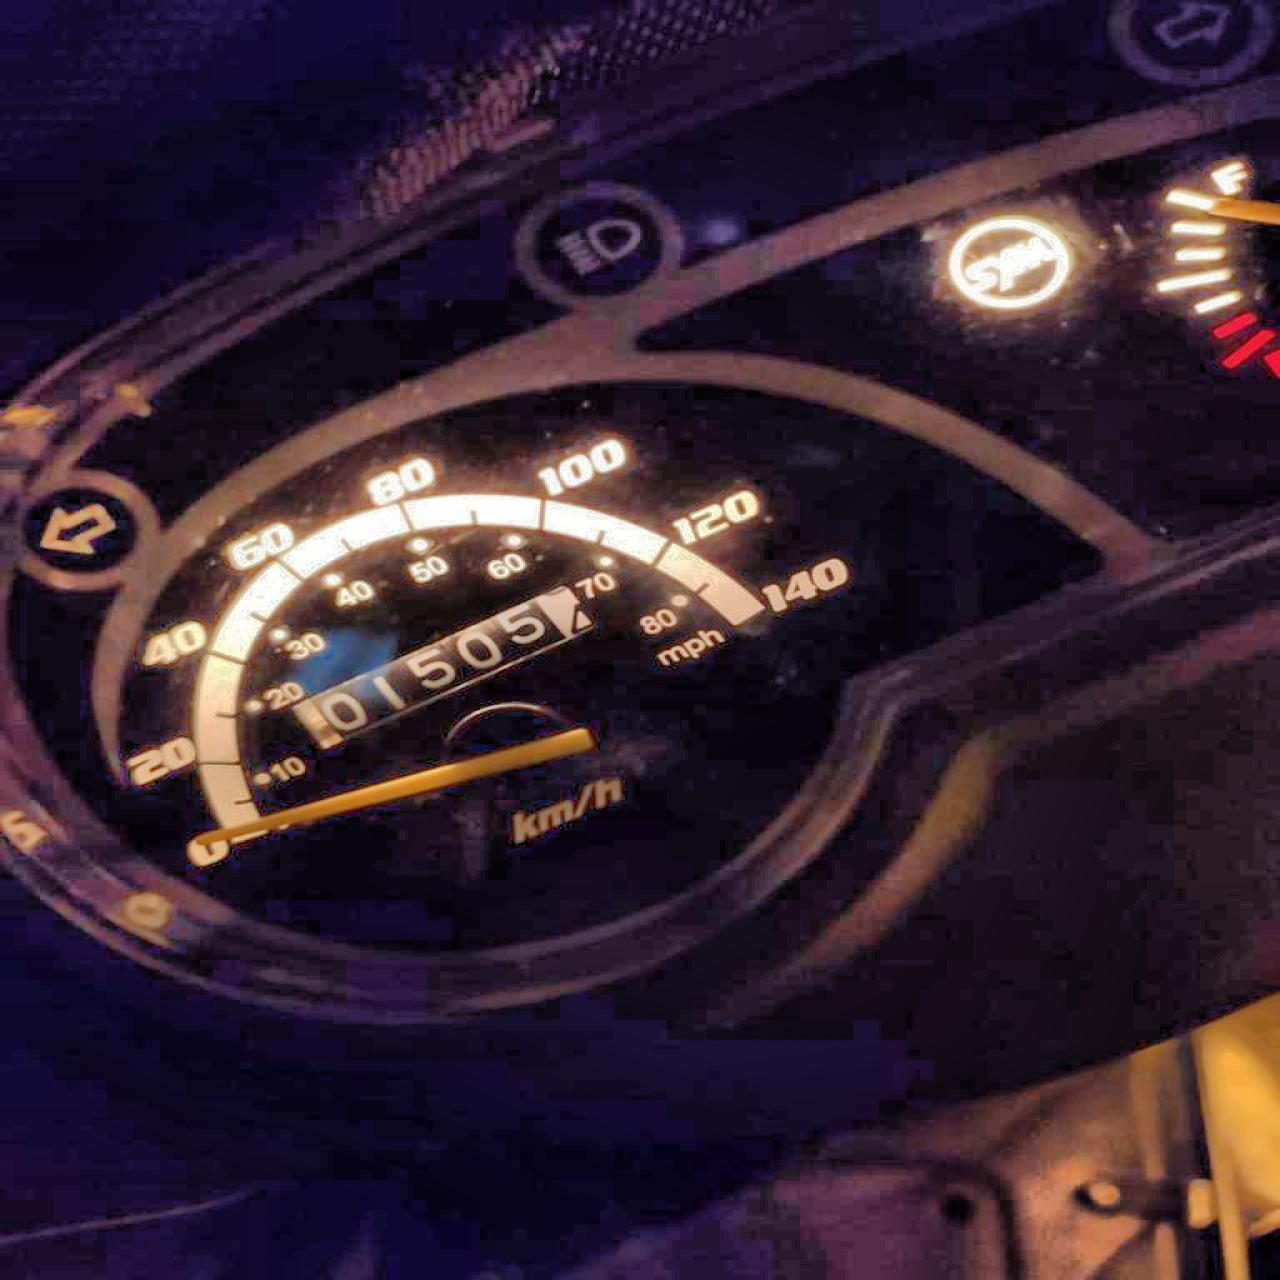0: (316, 692, 372, 734), (454, 629, 504, 669), (347, 579, 376, 599), (301, 629, 327, 651), (593, 570, 613, 591), (284, 681, 304, 700)
1: (368, 674, 404, 712)
3: (286, 639, 306, 659)
4: (560, 602, 604, 642), (333, 586, 356, 607)
5: (490, 602, 549, 641), (402, 649, 458, 689), (407, 560, 430, 581)
7: (576, 574, 595, 598)
odometer: (278, 571, 640, 740)
